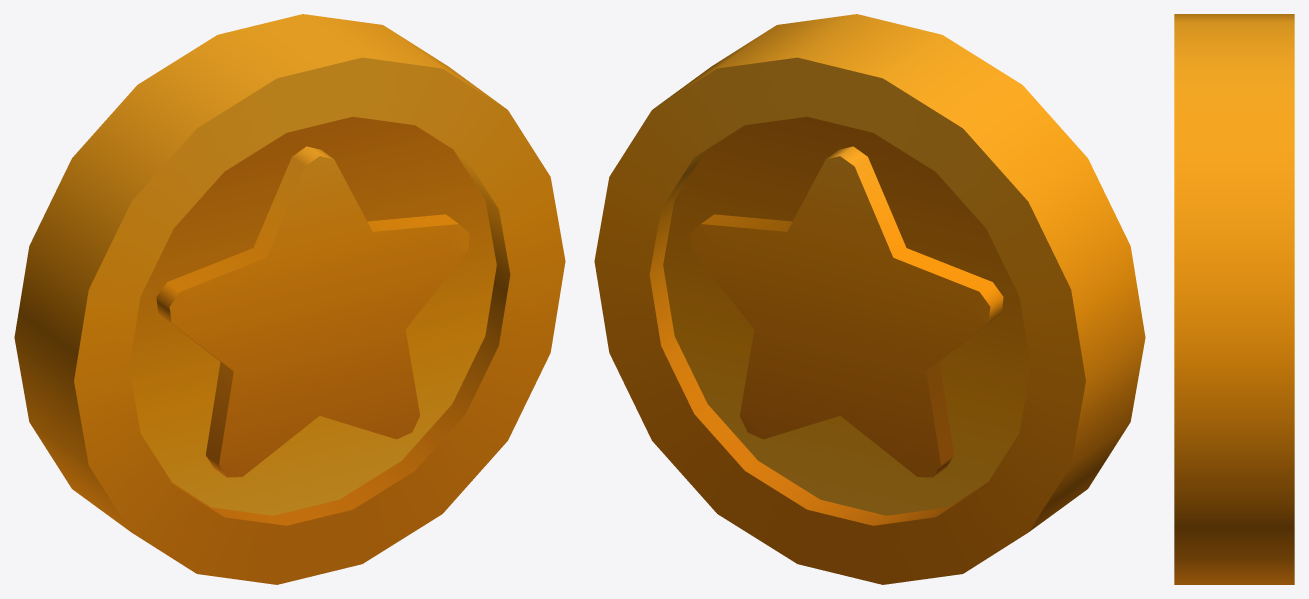
File: Collectable_Coin_02.fbx
3 renders of one model, left to right at view 1: azimuth 30°, elevation 25°; view 2: azimuth 150°, elevation 25°; view 3: azimuth 270°, elevation 25°, orthographic.
Visible parts, largest first — view 1: Collectable_Coin_02; view 2: Collectable_Coin_02; view 3: Collectable_Coin_02.
Part boxes in pixels (x1,y1,x2,y2): Collectable_Coin_02: (14, 14, 565, 584); Collectable_Coin_02: (594, 14, 1145, 584); Collectable_Coin_02: (1174, 14, 1294, 584).
Size of the model in its own units: 79.7 by 78.49 by 16.71.
